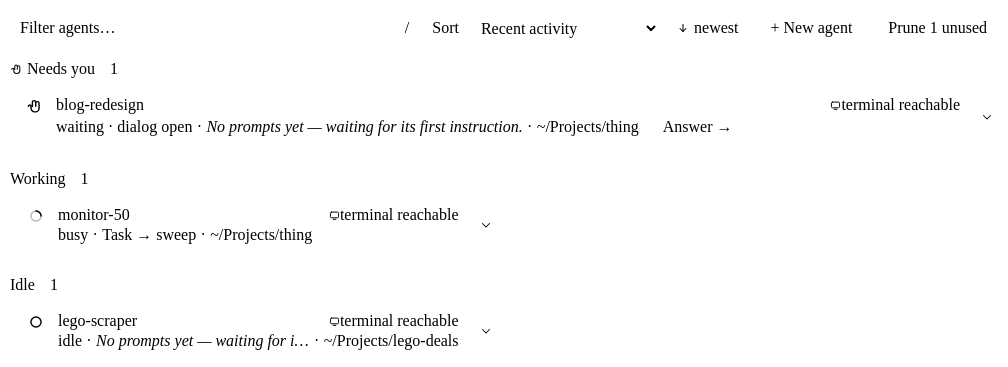
Test: FleetList › filters as you type
Type "lego" into the search field with test id "search".
click(216, 28); type("lego")  # box [8, 8, 424, 48]
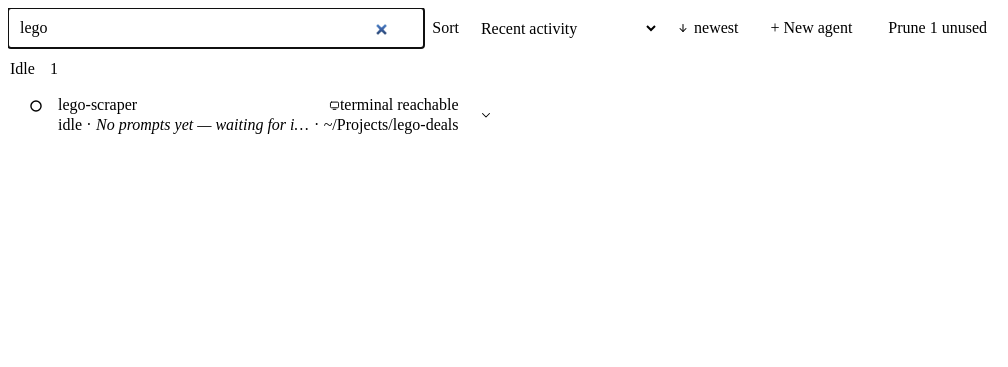
Now the elements with test id "agent-name" read "lego-scraper", in this order, box [58, 96, 137, 114]
